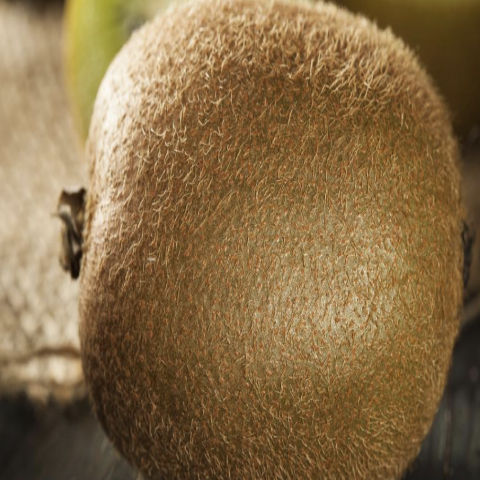kiwi: (37, 3, 477, 480)
